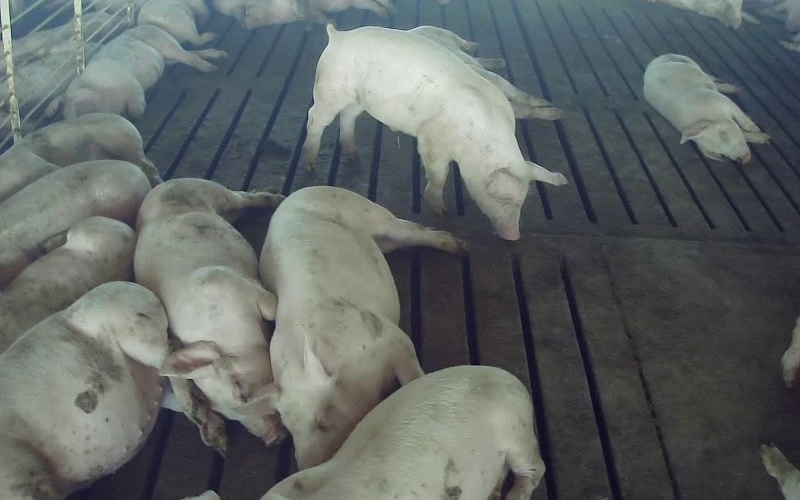pig: (233, 187, 465, 467), (0, 282, 225, 499), (134, 179, 282, 443), (262, 366, 544, 499), (0, 160, 150, 289), (0, 216, 136, 353), (46, 25, 224, 118), (0, 114, 160, 202), (644, 54, 769, 163)
